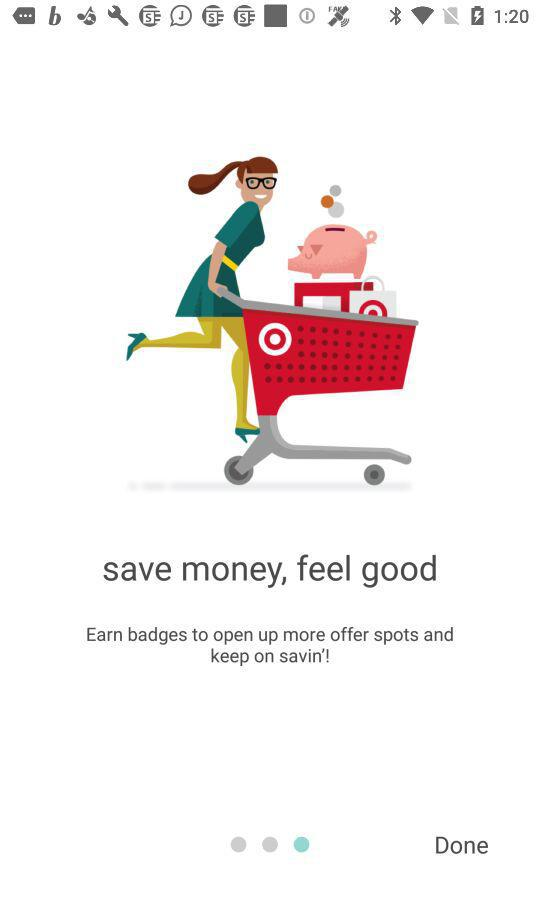Image: (125, 154, 421, 487)
PageIndicator: (230, 836, 311, 853)
Text: (87, 625, 455, 667), (103, 553, 438, 590), (435, 836, 489, 854)
UpperTaskBar: (1, 1, 540, 29)
